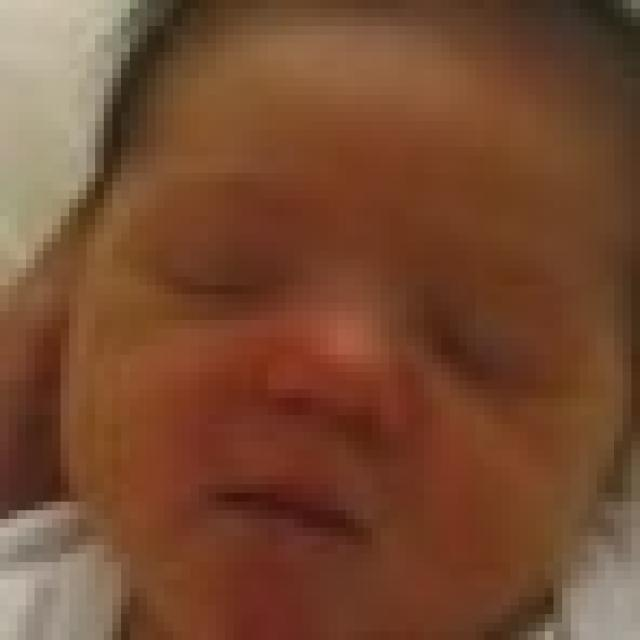Eyeclosed: (431, 318, 539, 401), (173, 260, 277, 316)
